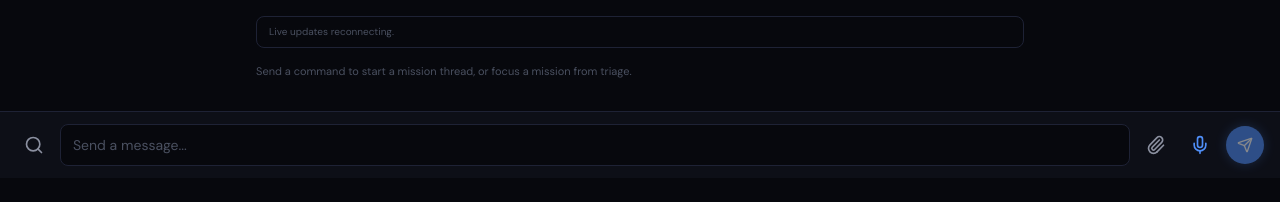
Test: ConversationThread composer (SSE-independent) › clears submitting after createCommand fails so the operator can retry
Type "hello" into the field named "composer command".
click(595, 145); type("hello")  # box [60, 124, 1130, 166]
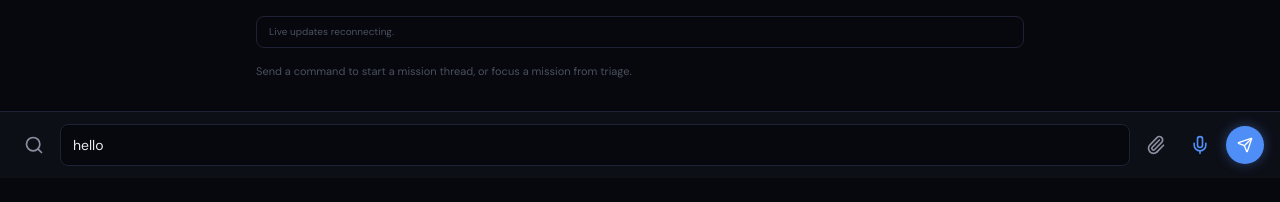
Submit the form named "composer command", box [16, 124, 1264, 166]
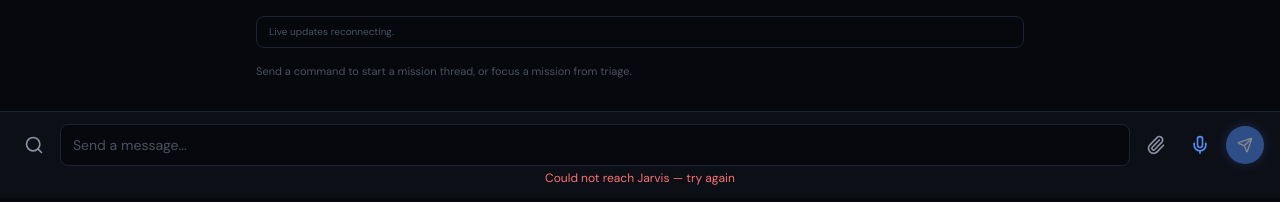
Check: the field named "composer command" is enabled, box [60, 124, 1130, 166]
Check: the text "Could not reach Jarvis — try again" is shown, box [545, 170, 735, 186]
